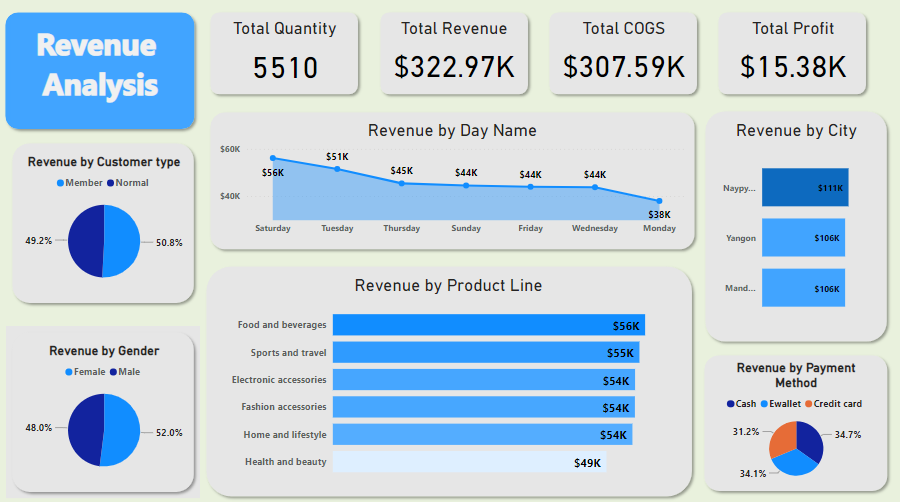

Layout of this report page (visuals, bound fields, positions):
{"tool":"powerbi","page":{"name":"Revenue","canvas":[1280,720],"ordinal":1},"visuals":[{"type":"shape","box":[0,15.1,285.6,183.1],"z":0,"group":"g16"},{"type":"group","id":"g1","title":"Group 1","box":[290.6,15.1,226.8,134.4],"z":0},{"type":"shape","box":[290.6,15.1,226.8,134.4],"z":0,"group":"g1"},{"type":"shape","box":[530.8,15.1,226.8,134.4],"z":0,"group":"g3"},{"type":"shape","box":[771,15.1,226.8,134.4],"z":0,"group":"g4"},{"type":"shape","box":[1011.2,15.1,226.8,134.4],"z":0,"group":"g5"},{"type":"shape","box":[992.8,156.2,275.5,344.4],"z":0,"group":"g11"},{"type":"shape","box":[10.1,201.6,275.5,243.6],"z":0,"group":"g7"},{"type":"shape","box":[285.6,376.3,705.5,344.4],"z":0,"group":"g12"},{"type":"shape","box":[10.1,468.7,275.5,243.6],"z":0,"group":"g8"},{"type":"group","id":"g2","title":"Group 2","box":[0,15.1,285.6,183.1],"z":1000},{"type":"card","title":"Total Quantity","fields":{"Values":["Measures Table.Total Quantity Sold"]},"box":[307,32,195,103],"z":1000,"group":"g1"},{"type":"card","title":"Total Revenue","fields":{"Values":["Measures Table.Total Revenue"]},"box":[548,32,193,102],"z":1000,"group":"g3"},{"type":"card","title":"Total COGS","fields":{"Values":["Measures Table.Total COGS"]},"box":[788,32,195,102],"z":1000,"group":"g4"},{"type":"card","title":"Total Profit","fields":{"Values":["Measures Table.Total Gross Profit"]},"box":[1028,32,196,101],"z":1000,"group":"g5"},{"type":"textbox","box":[17.3,34,252.7,152.9],"z":1000,"group":"g16"},{"type":"group","id":"g3","title":"Group 1","box":[530.8,15.1,226.8,134.4],"z":2000},{"type":"group","id":"g4","title":"Group 1","box":[771,15.1,226.8,134.4],"z":3000},{"type":"group","id":"g5","title":"Group 1","box":[1011.2,15.1,226.8,134.4],"z":4000},{"type":"shape","box":[290.6,157.9,703.8,211.7],"z":5000,"group":"g13"},{"type":"group","id":"g6","title":"Group 3","box":[10.1,201.6,275.5,243.6],"z":5000},{"type":"group","id":"g7","title":"Group 1","box":[10.1,201.6,275.5,243.6],"z":5000,"group":"g6"},{"type":"group","id":"g8","title":"Group 1","box":[10.1,468.7,275.5,243.6],"z":5000,"group":"g9"},{"type":"group","id":"g9","title":"Group 3","box":[10.1,468.7,275.5,243.6],"z":6000},{"type":"group","id":"g10","title":"Group 4","box":[992.8,156.2,275.5,344.4],"z":7000},{"type":"group","id":"g11","title":"Group 1","box":[992.8,156.2,275.5,344.4],"z":7000,"group":"g10"},{"type":"group","id":"g12","title":"Group 1","box":[285.6,376.3,705.5,344.4],"z":7000,"group":"g15"},{"type":"group","id":"g13","title":"Group 5","box":[290.6,157.9,703.8,211.7],"z":8000},{"type":"shape","box":[991.1,502.3,277.2,210],"z":8000,"group":"g14"},{"type":"group","id":"g14","title":"Group 6","box":[991.1,502.3,277.2,210],"z":9000},{"type":"group","id":"g15","title":"Group 4","box":[285.6,376.3,705.5,344.4],"z":10000},{"type":"group","id":"g16","title":"Group 7","box":[0,15.1,285.6,183.1],"z":10001,"group":"g2"},{"type":"areaChart","title":"Revenue by Day Name","fields":{"Category":["calendar.Day Name"],"Y":["Measures Table.Total Revenue"]},"box":[307.4,178.1,670.2,171.3],"z":11000,"group":"g13"},{"type":"barChart","title":"Revenue by City","fields":{"Y":["Measures Table.Total Revenue"],"Category":["sales.City"]},"box":[1007.9,178,245.2,300.7],"z":14000,"group":"g10"},{"type":"barChart","title":"Revenue by Product Line","fields":{"Category":["sales.Product line"],"Y":["Measures Table.Total Revenue"]},"box":[324.3,398.1,628.1,300.7],"z":14000,"group":"g15"},{"type":"pieChart","title":"Revenue by Customer type","fields":{"Category":["sales.Customer type"],"Y":["Measures Table.Total Revenue"]},"box":[33.6,225.1,230.1,196.5],"z":14001,"group":"g6"},{"type":"pieChart","title":"Revenue by Gender","fields":{"Category":["sales.Gender"],"Y":["Measures Table.Total Revenue"]},"box":[33.6,492.2,230.1,196.5],"z":14001,"group":"g9"},{"type":"pieChart","title":"Revenue by Payment Method","fields":{"Category":["sales.Payment"],"Y":["Measures Table.Total Revenue"]},"box":[1011.3,517.4,238.5,179.7],"z":15000,"group":"g14"}]}

Visuals, with their boxes in screenshot pixels (x1, y1, x2, y2), scaled from the page's 1280x720 canvas onto the 900x502 screenshot:
shape: detection(0, 11, 201, 138)
"Group 1" group: detection(204, 11, 364, 104)
shape: detection(204, 11, 364, 104)
shape: detection(373, 11, 533, 104)
shape: detection(542, 11, 702, 104)
shape: detection(711, 11, 870, 104)
shape: detection(698, 109, 892, 349)
shape: detection(7, 141, 201, 310)
shape: detection(201, 262, 697, 501)
shape: detection(7, 327, 201, 497)
"Group 2" group: detection(0, 11, 201, 138)
"Total Quantity" card: detection(216, 22, 353, 94)
"Total Revenue" card: detection(385, 22, 521, 93)
"Total COGS" card: detection(554, 22, 691, 93)
"Total Profit" card: detection(723, 22, 861, 93)
textbox: detection(12, 24, 190, 130)
"Group 1" group: detection(373, 11, 533, 104)
"Group 1" group: detection(542, 11, 702, 104)
"Group 1" group: detection(711, 11, 870, 104)
shape: detection(204, 110, 699, 258)
"Group 3" group: detection(7, 141, 201, 310)
"Group 1" group: detection(7, 141, 201, 310)
"Group 1" group: detection(7, 327, 201, 497)
"Group 3" group: detection(7, 327, 201, 497)
"Group 4" group: detection(698, 109, 892, 349)
"Group 1" group: detection(698, 109, 892, 349)
"Group 1" group: detection(201, 262, 697, 501)
"Group 5" group: detection(204, 110, 699, 258)
shape: detection(697, 350, 892, 497)
"Group 6" group: detection(697, 350, 892, 497)
"Group 4" group: detection(201, 262, 697, 501)
"Group 7" group: detection(0, 11, 201, 138)
"Revenue by Day Name" areaChart: detection(216, 124, 687, 244)
"Revenue by City" barChart: detection(709, 124, 881, 334)
"Revenue by Product Line" barChart: detection(228, 278, 670, 487)
"Revenue by Customer type" pieChart: detection(24, 157, 185, 294)
"Revenue by Gender" pieChart: detection(24, 343, 185, 480)
"Revenue by Payment Method" pieChart: detection(711, 361, 879, 486)
